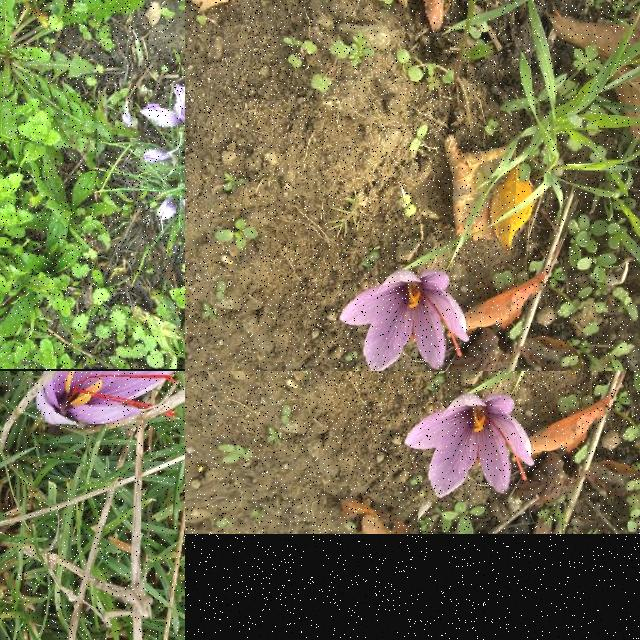flower: (404, 393, 536, 499), (339, 269, 470, 371), (36, 371, 185, 426), (140, 102, 182, 128), (174, 85, 185, 131)
